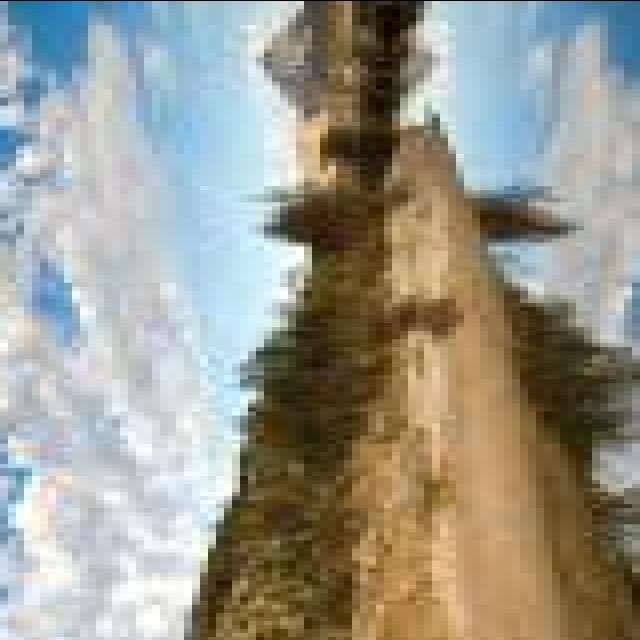-: (536, 12, 640, 640), (408, 0, 640, 77)
